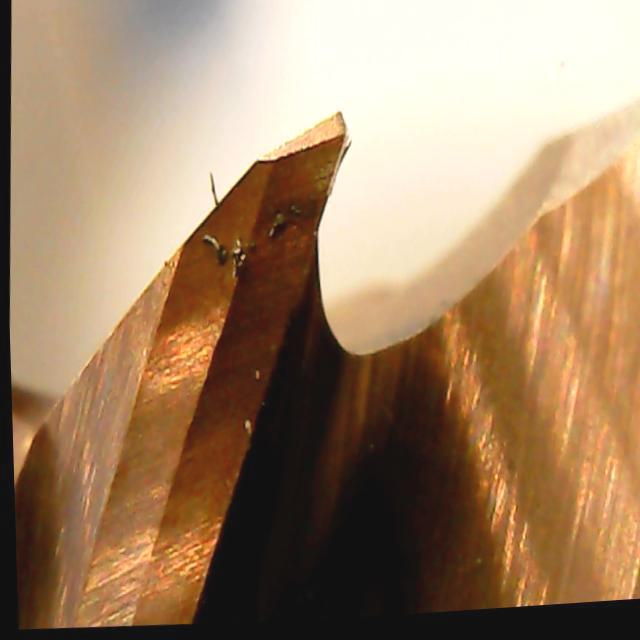Tool-wear-class-1: (155, 110, 377, 426)
